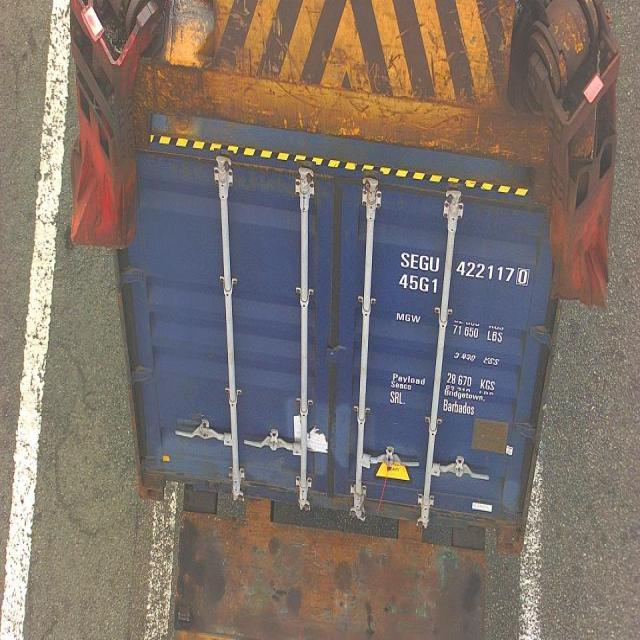ISO: (398, 274, 440, 298)
container_number: (400, 247, 531, 286)
